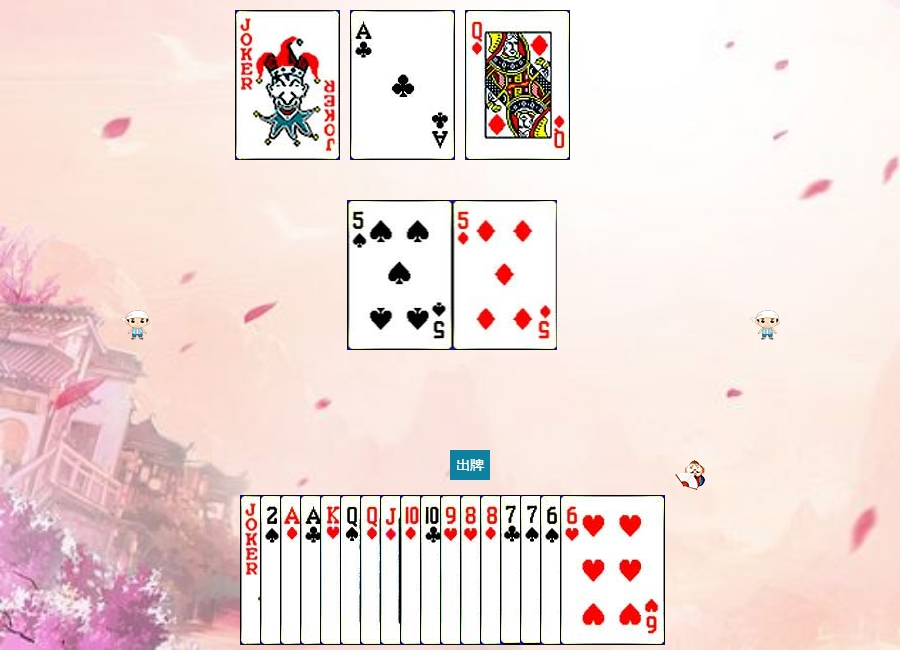10~1: (400, 495, 505, 645)
10~2: (420, 495, 525, 645)
11~1: (380, 495, 485, 645)
12~1: (465, 10, 570, 160), (360, 495, 465, 645)
12~4: (340, 495, 445, 645)
13~3: (320, 495, 425, 645)
14~1: (280, 495, 385, 645)
14~2: (350, 10, 455, 160), (300, 495, 405, 645)
15~4: (260, 495, 365, 645)
18~4: (235, 10, 340, 160), (240, 495, 345, 645)
5~1: (453, 200, 558, 350)
5~4: (348, 200, 453, 350)
6~3: (560, 495, 665, 645)
6~4: (540, 495, 645, 645)
7~2: (500, 495, 605, 645)
7~4: (520, 495, 625, 645)
8~1: (480, 495, 585, 645)
8~3: (460, 495, 565, 645)
9~3: (440, 495, 545, 645)
